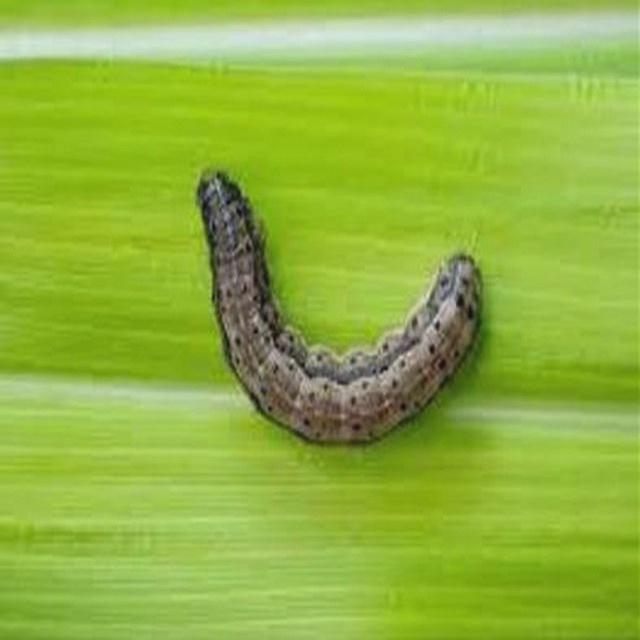Plaga: (189, 155, 490, 453)
